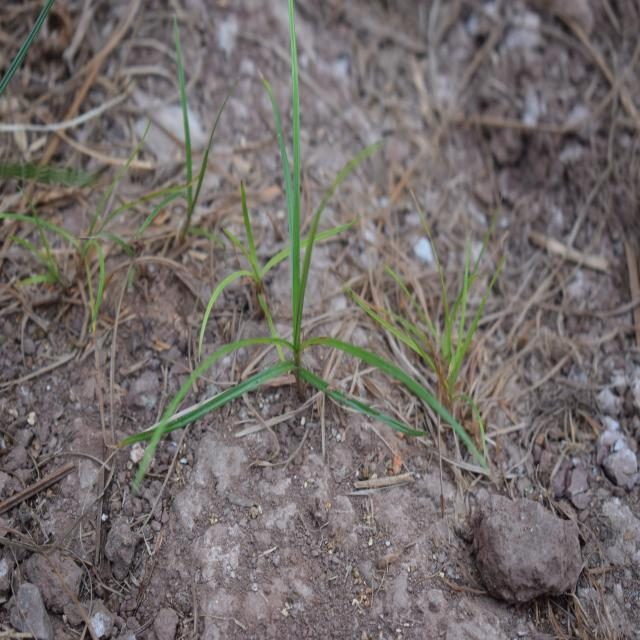sedge: (146, 45, 440, 483)
